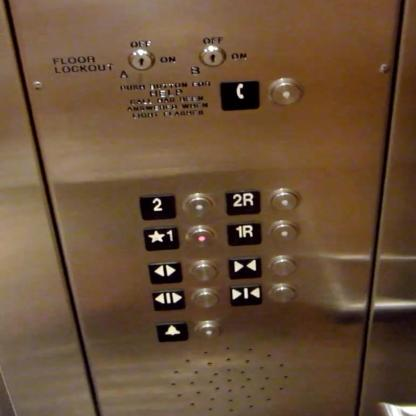1R: (224, 220, 262, 246)
2: (137, 193, 178, 222)
2R: (222, 188, 262, 216)
alarm: (154, 320, 190, 343)
call: (217, 78, 262, 112)
close: (225, 254, 263, 280), (227, 284, 265, 307)
empty: (265, 76, 305, 108), (180, 191, 216, 218), (186, 258, 222, 284), (186, 286, 222, 312), (191, 318, 227, 344), (266, 219, 302, 245), (265, 253, 301, 279), (264, 280, 300, 306), (184, 224, 219, 250), (266, 187, 301, 213)
keyhole: (127, 48, 156, 72), (198, 45, 228, 67)
open: (146, 259, 184, 285), (149, 288, 186, 313)
s1: (141, 225, 182, 253)
